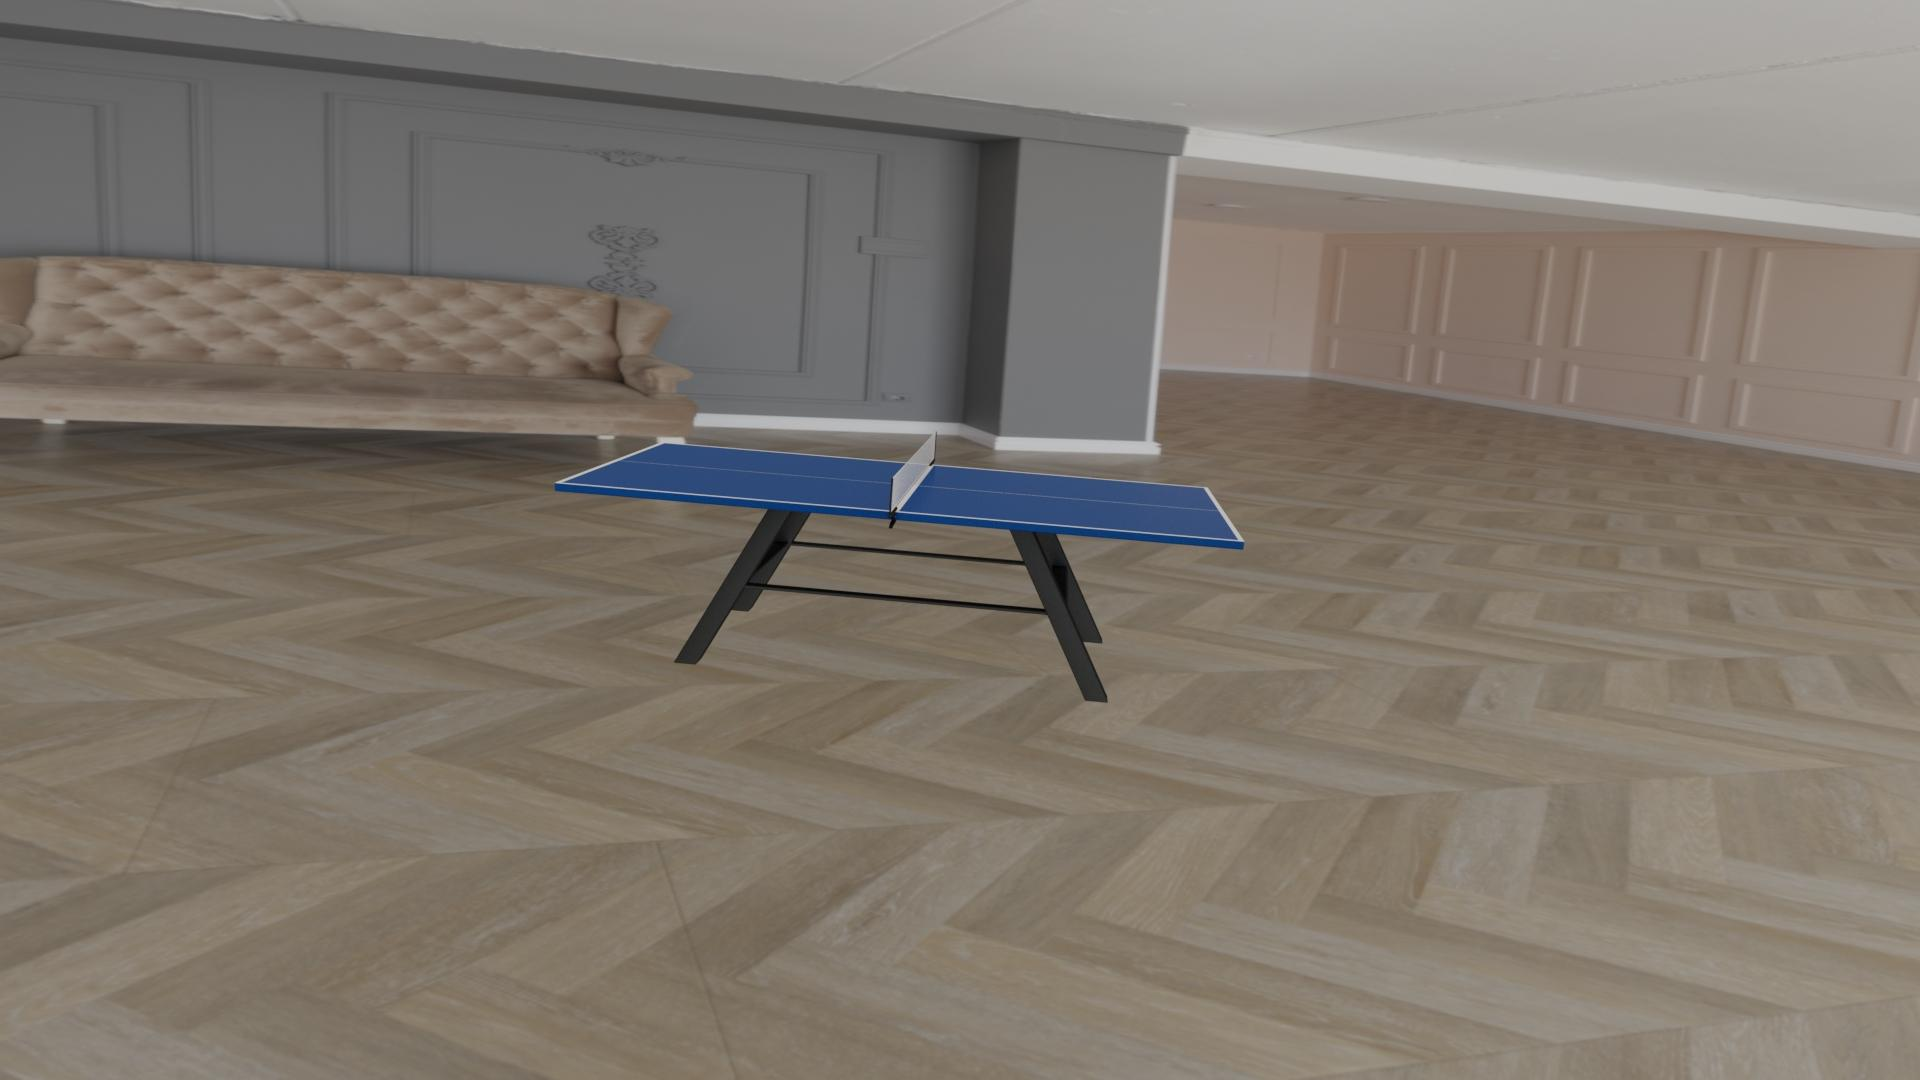table: (560, 443, 1238, 541)
